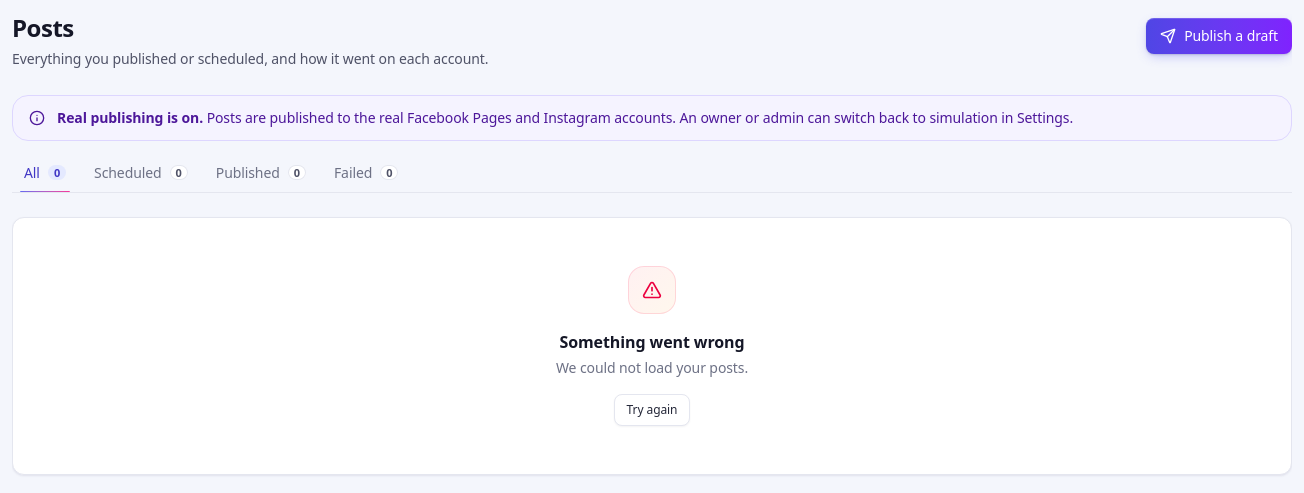
job list › shows the error with a retry that asks the API again
This screenshot has width=1304, height=493.
Check: the text "We could not load your posts." is shown, box left=556, top=358, right=748, bottom=378
Click the button "Try again". click: (652,410)
box: left=614, top=394, right=690, bottom=426
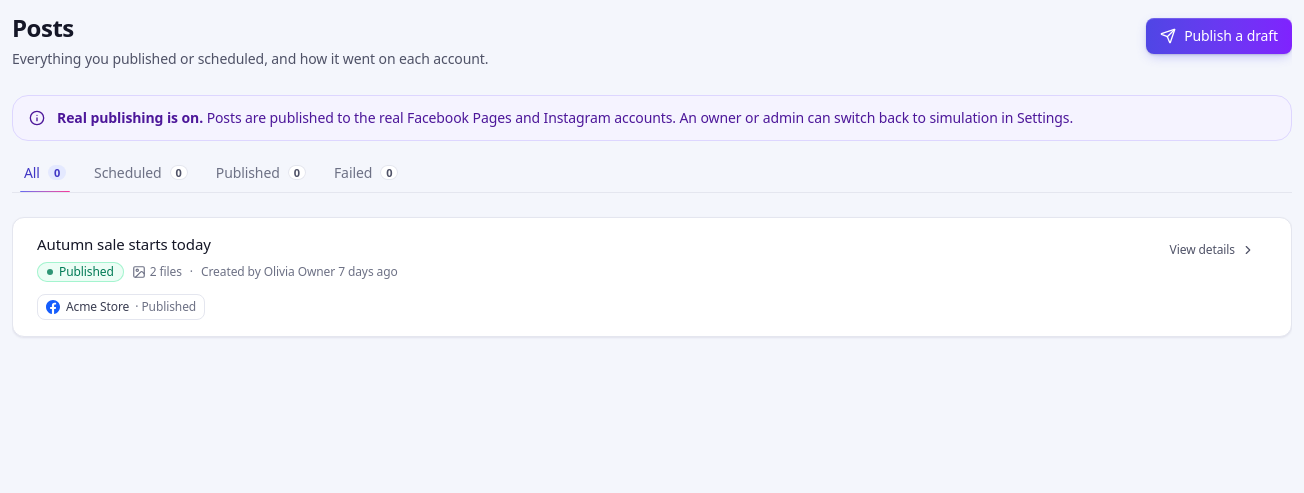
Check: the text "Autumn sale starts today" is shown, box left=37, top=234, right=211, bottom=254
